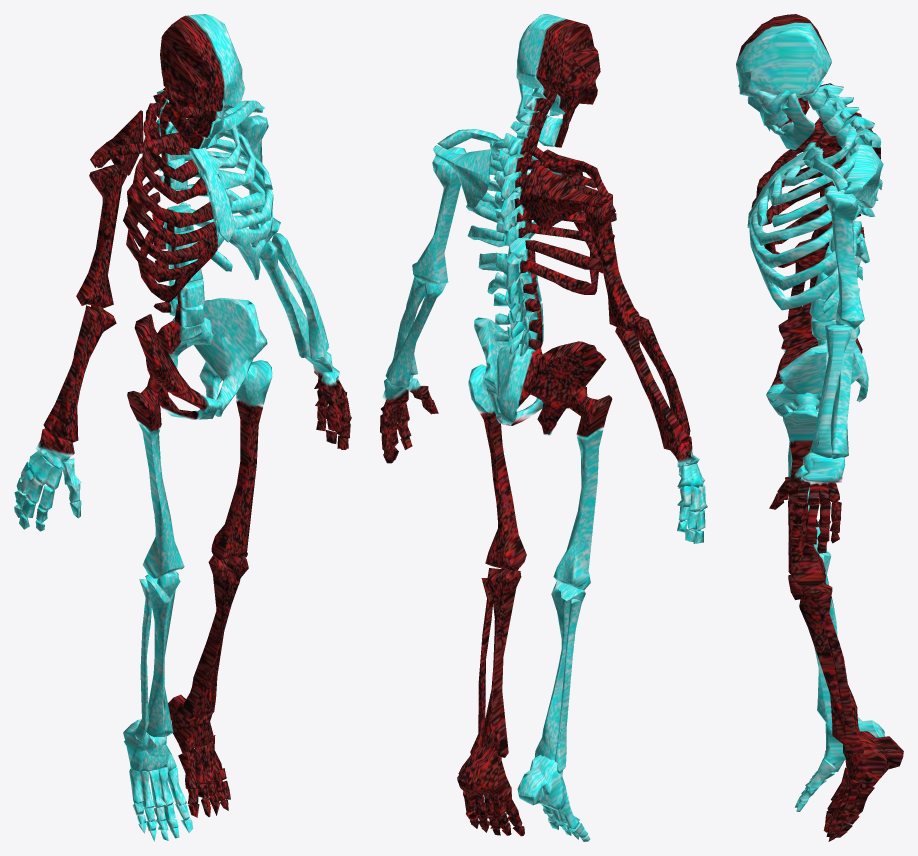
3 renders of one model, left to right at view 1: azimuth 30°, elevation 25°; view 2: azimuth 150°, elevation 25°; view 3: azimuth 270°, elevation 25°, orthographic. The views are drawn at different scales.
Visible parts, largest first — view 1: SM_VFX_IdleStandingSkeleton_LOD0; view 2: SM_VFX_IdleStandingSkeleton_LOD0; view 3: SM_VFX_IdleStandingSkeleton_LOD0.
Part boxes in pixels (x1,y1,x2,y2): SM_VFX_IdleStandingSkeleton_LOD0: (14,14,351,841); SM_VFX_IdleStandingSkeleton_LOD0: (380,14,707,841); SM_VFX_IdleStandingSkeleton_LOD0: (736,14,903,841).
Bounding box in the file's own units: 0.8029 × 1.95 × 0.3713.
1 material, 1 textured.
